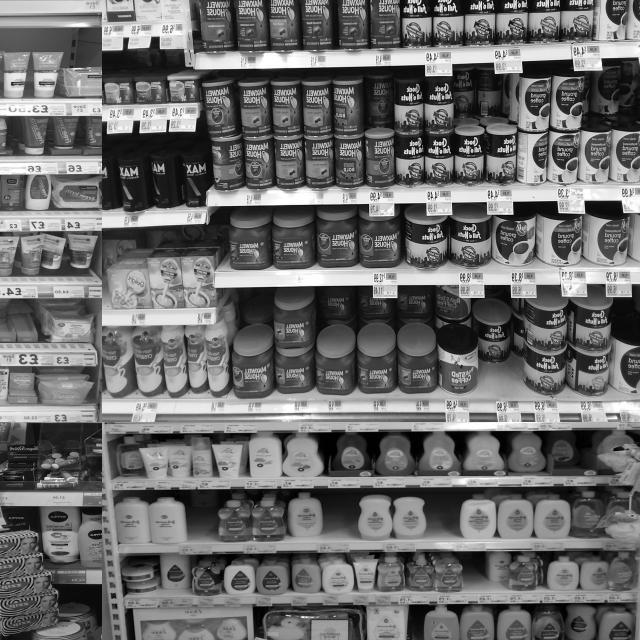Imprecise: (320, 282, 435, 394), (454, 62, 518, 182), (589, 62, 640, 188), (435, 280, 476, 396), (364, 74, 402, 180), (478, 300, 517, 394), (567, 484, 612, 540), (485, 550, 513, 592)
